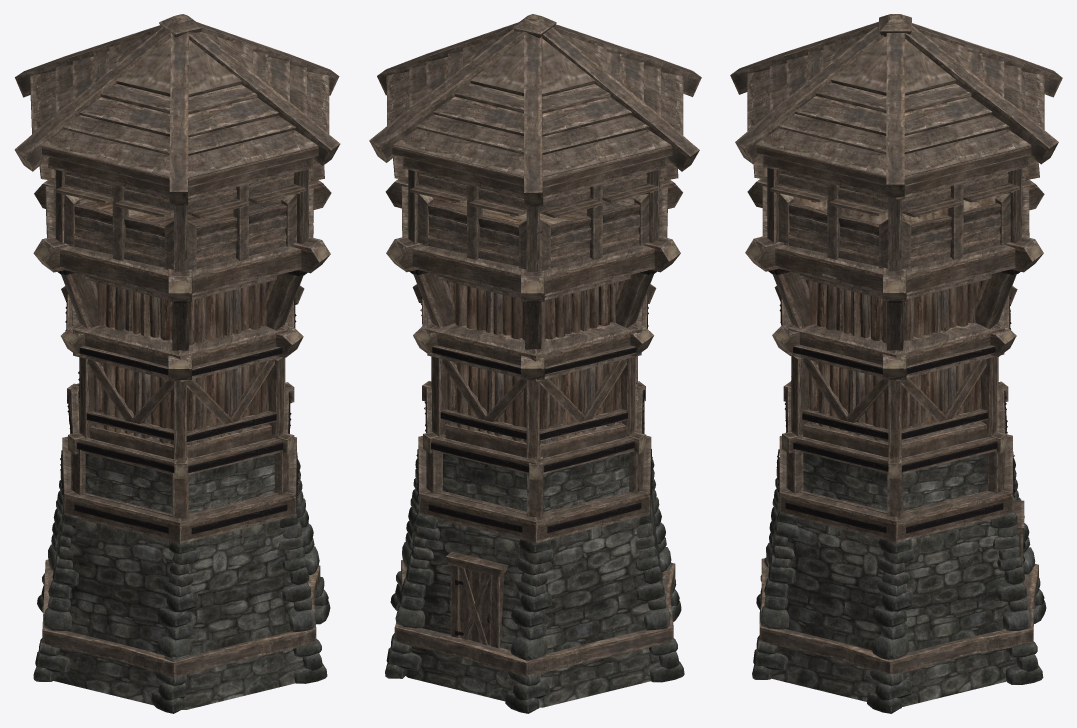
The model's file is JAV_Struc_Def_TrueStone_TowerB-transformed.glb.
3 views of the same model, side by side, from view 1: azimuth 30°, elevation 25°; view 2: azimuth 150°, elevation 25°; view 3: azimuth 270°, elevation 25° (orthographic).
Visible parts, largest first — view 1: default; view 2: default; view 3: default.
Boxes of the visible parts, x1=… form: default: x1=14, y1=14, x2=340, y2=713; default: x1=369, y1=14, x2=701, y2=713; default: x1=730, y1=14, x2=1062, y2=713.
Bounding box in the file's own units: 9.97 × 19.02 × 9.11.
Materials: 3 (3 with a texture image).
